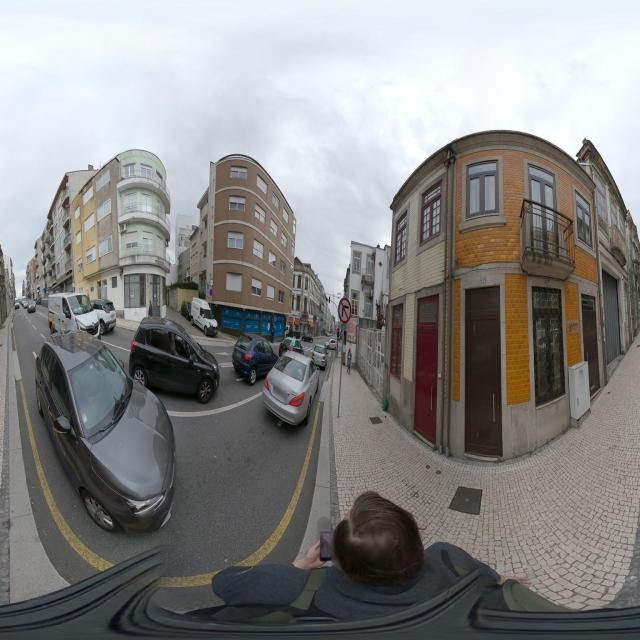forb_stopping: (209, 288, 213, 297)
